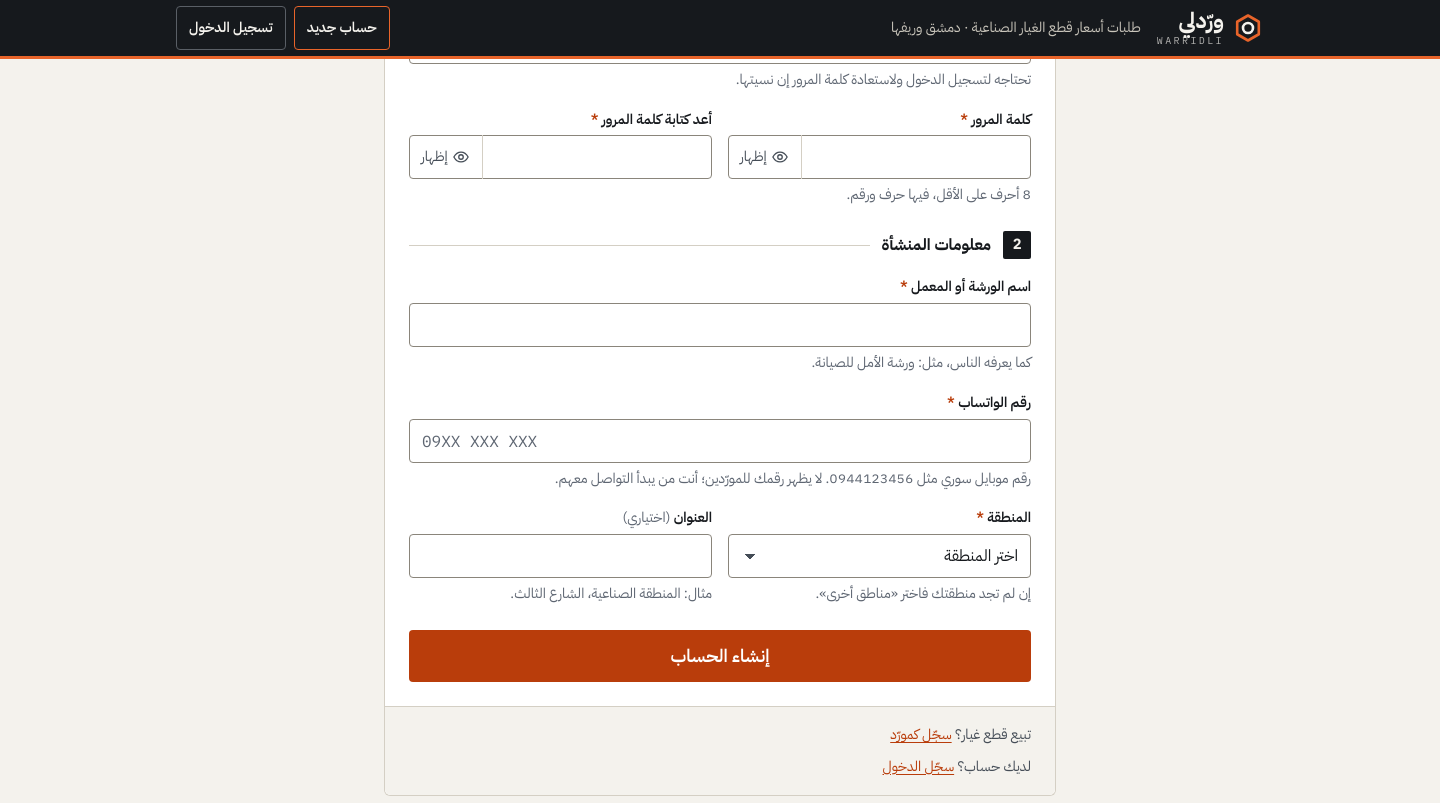
Test case: registration › lists every client-side problem in an error summary and sends nothing
This screenshot has width=1440, height=803.
(page scrolled)
In the field labelled "رقم الواتساب *": (720, 440) [409,418,1031,462], type "011 222"
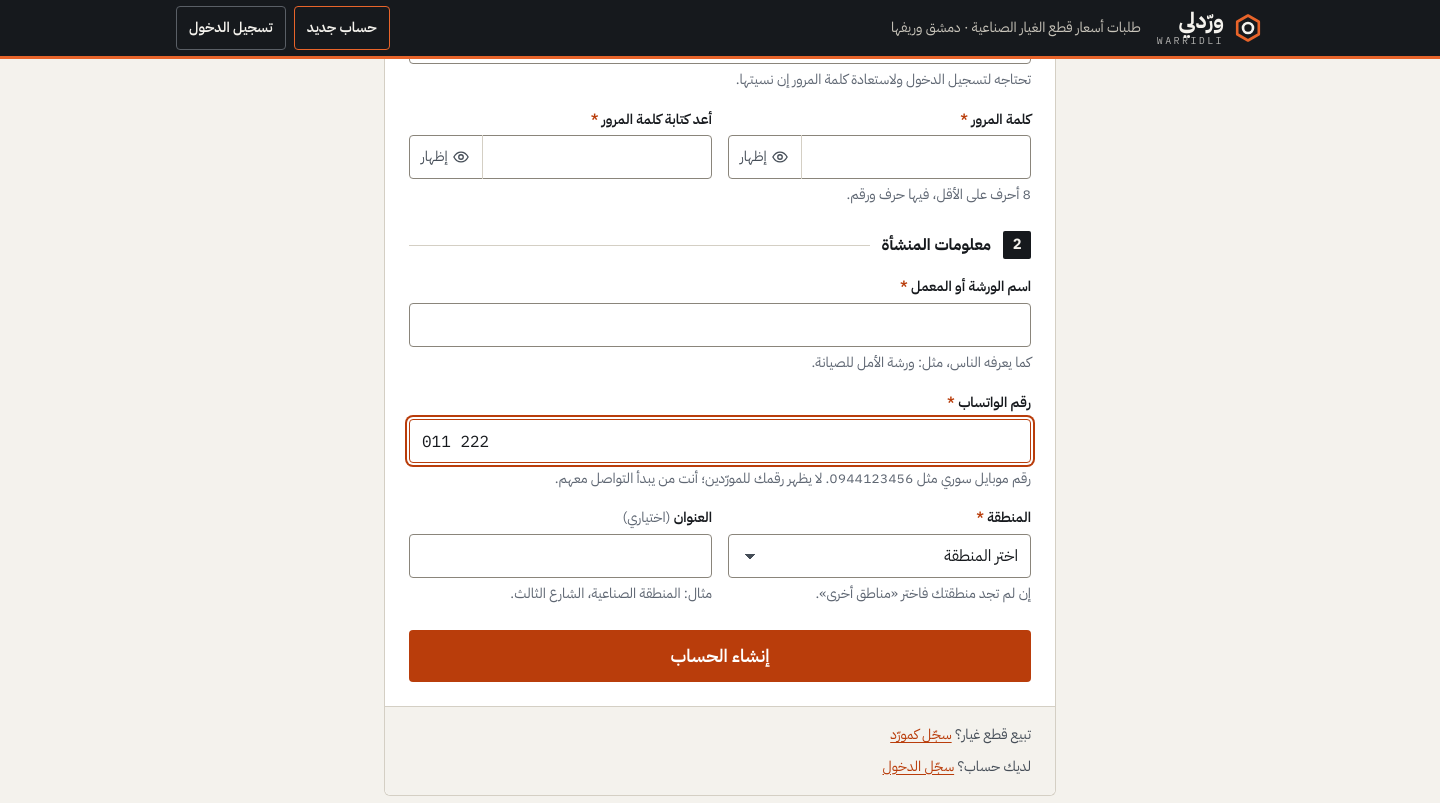
Click the button "إنشاء الحساب": (720, 656) [409,630,1031,682]
(page scrolled)
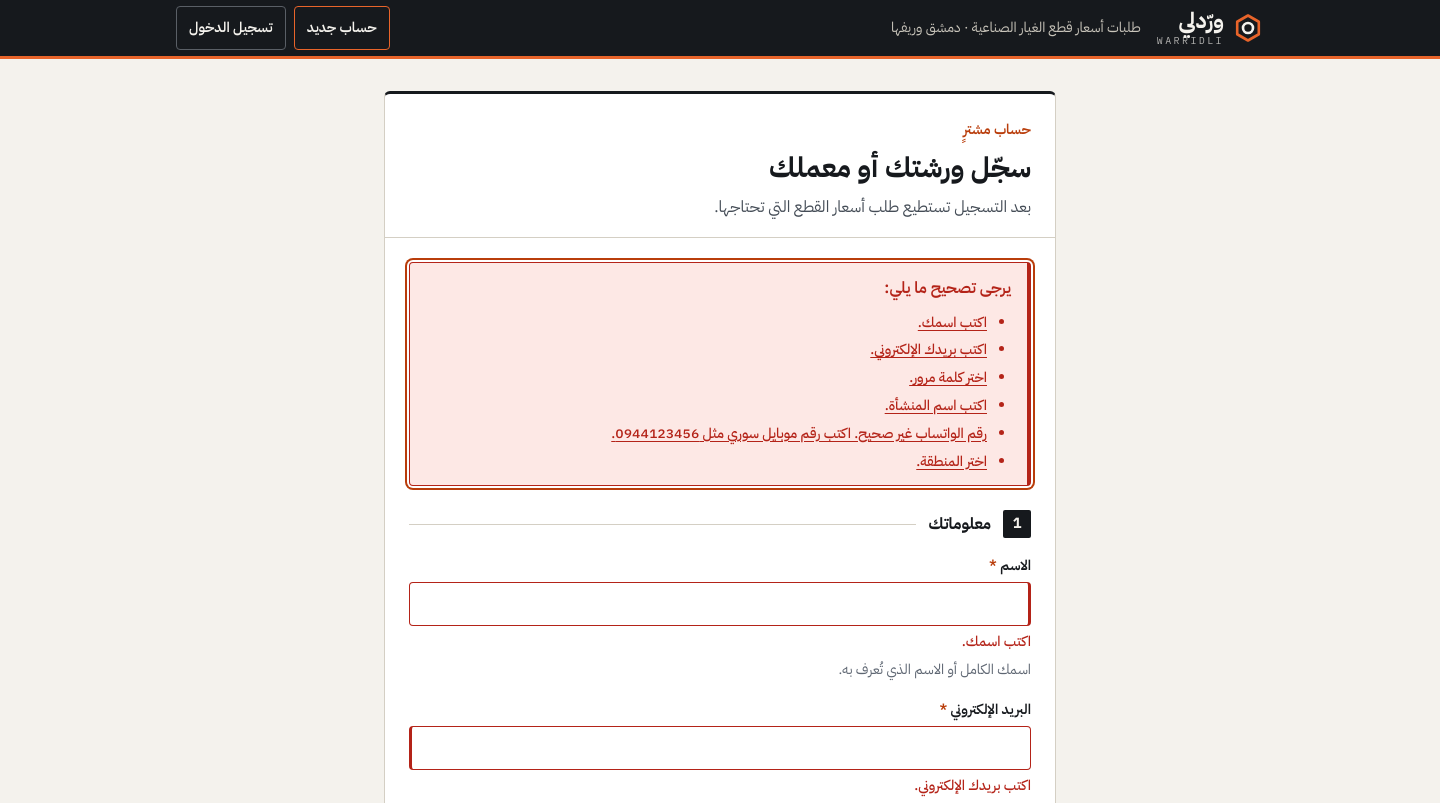
Expected: the links read "اكتب اسمك.", "اكتب بريدك الإلكتروني.", "اختر كلمة مرور.", "اكتب اسم المنشأة.", "رقم الواتساب غير صحيح. اكتب رقم موبايل سوري مثل 0944123456.", "اختر المنطقة.", in this order, [918,312,987,333]; [870,339,987,360]; [909,367,987,388]; [885,395,987,416]; [611,423,987,444]; [916,450,987,472]
